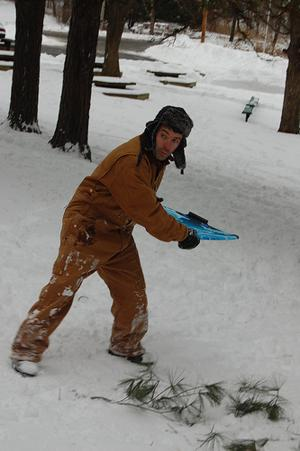person: (11, 106, 201, 377)
